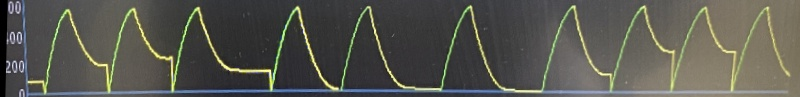leakage: (38, 0, 264, 97), (540, 0, 749, 97)
normal_volume: (277, 0, 537, 97)
